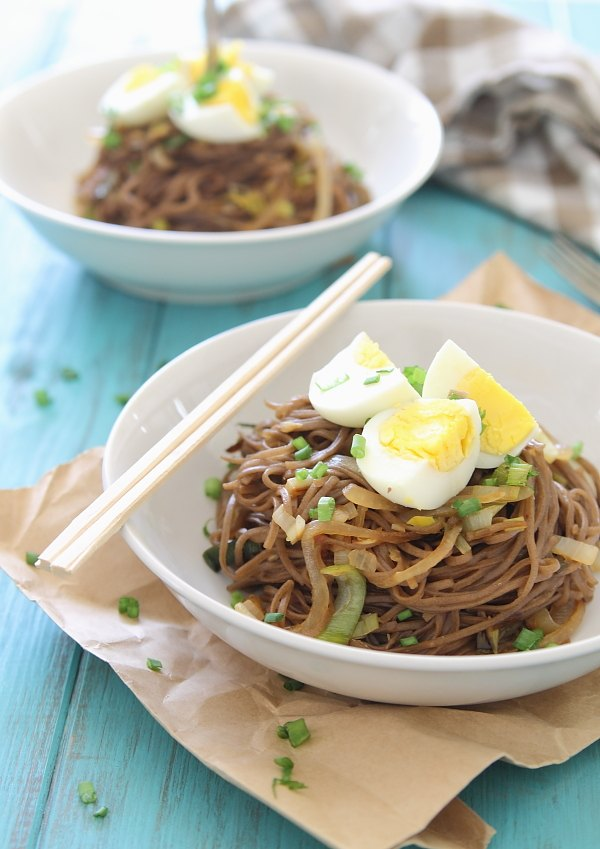Soba: (207, 393, 600, 678)
